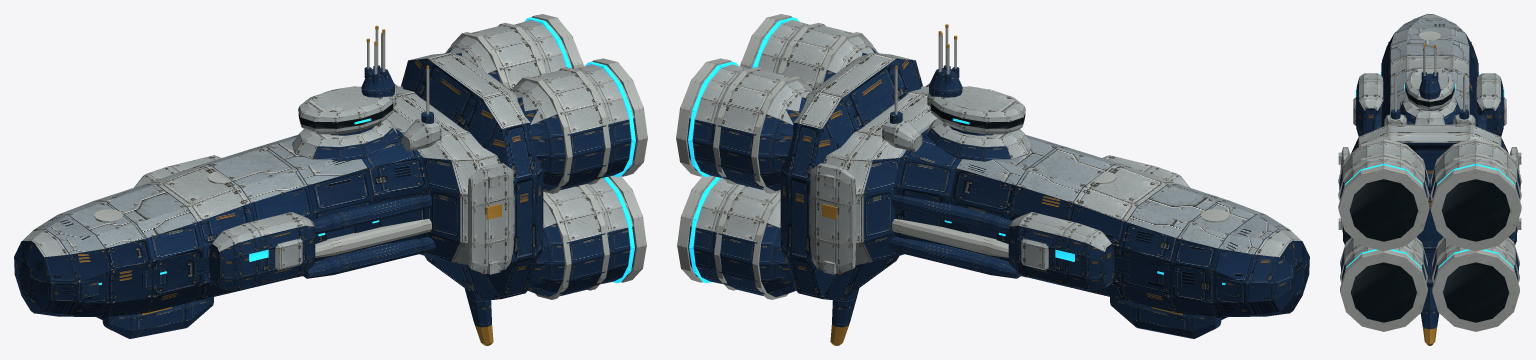
Rendered from concord-cruiser.glb.
The picture shows the model from 3 angles, left to right: view 1: azimuth 30°, elevation 25°; view 2: azimuth 150°, elevation 25°; view 3: azimuth 270°, elevation 25°; orthographic projection. The views are drawn at different scales.
Visible parts, largest first — view 1: Concord cruiser · rebuilt hull.019; view 2: Concord cruiser · rebuilt hull.019; view 3: Concord cruiser · rebuilt hull.019.
Part boxes in pixels (x1,y1,x2,y2): Concord cruiser · rebuilt hull.019: [14, 14, 647, 345]; Concord cruiser · rebuilt hull.019: [676, 14, 1309, 345]; Concord cruiser · rebuilt hull.019: [1338, 14, 1521, 345].
Bounding box in the file's own units: 1.89 × 1.1 × 0.7005.
Materials: 1 (1 with a texture image).
